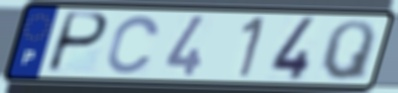1: (237, 15, 267, 80)
4: (268, 14, 317, 84), (162, 13, 206, 79)
C: (104, 13, 162, 76)
P: (43, 10, 112, 76)
Q: (318, 18, 378, 83)
